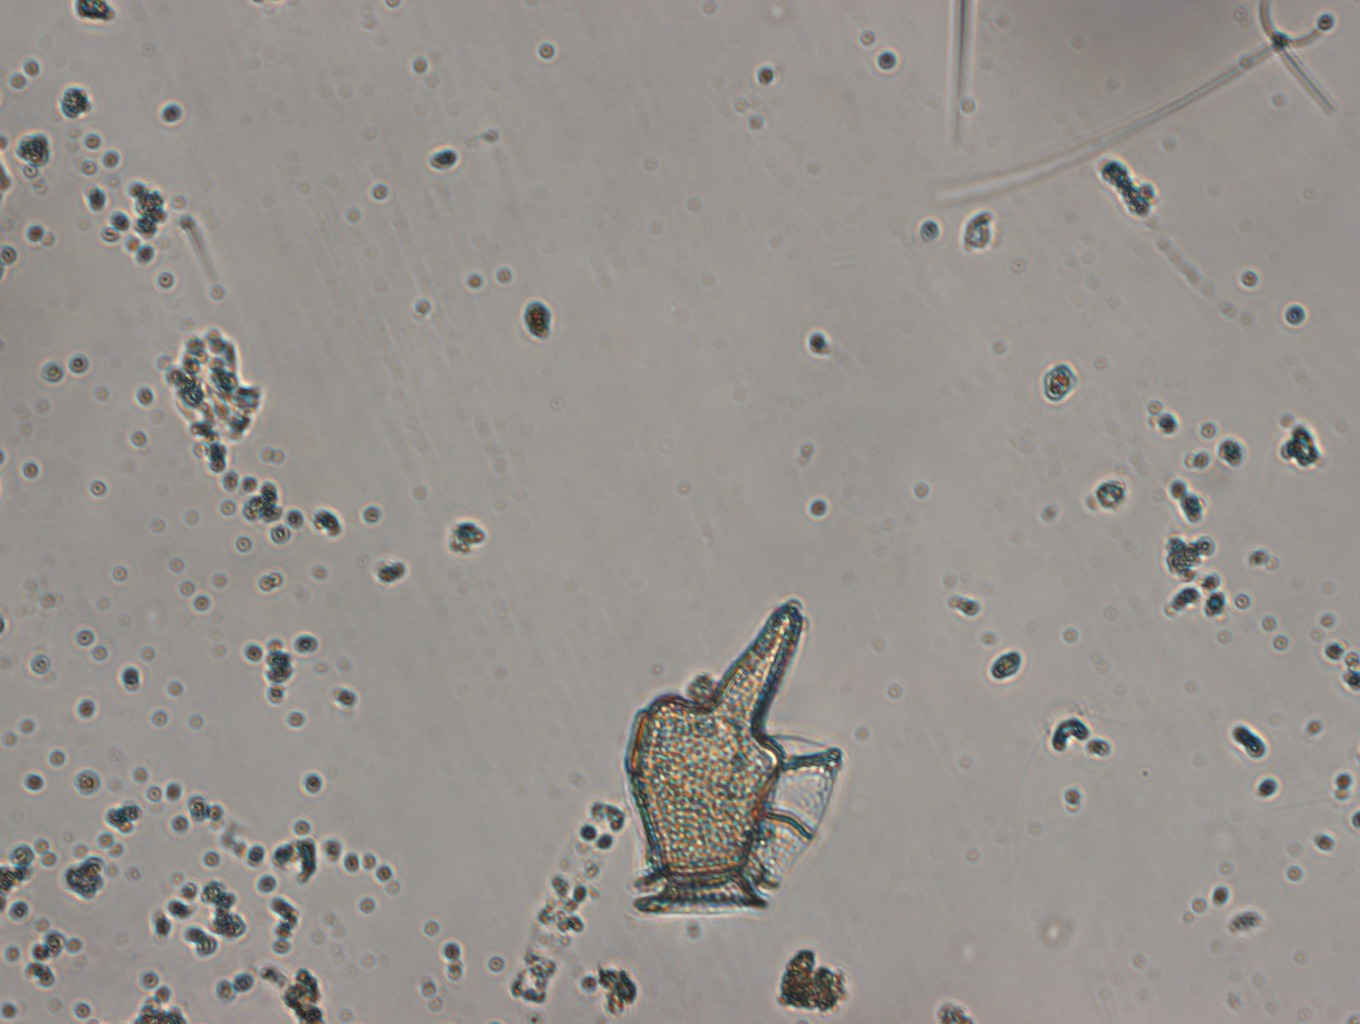dinophysis caudata: (622, 595, 851, 922)
